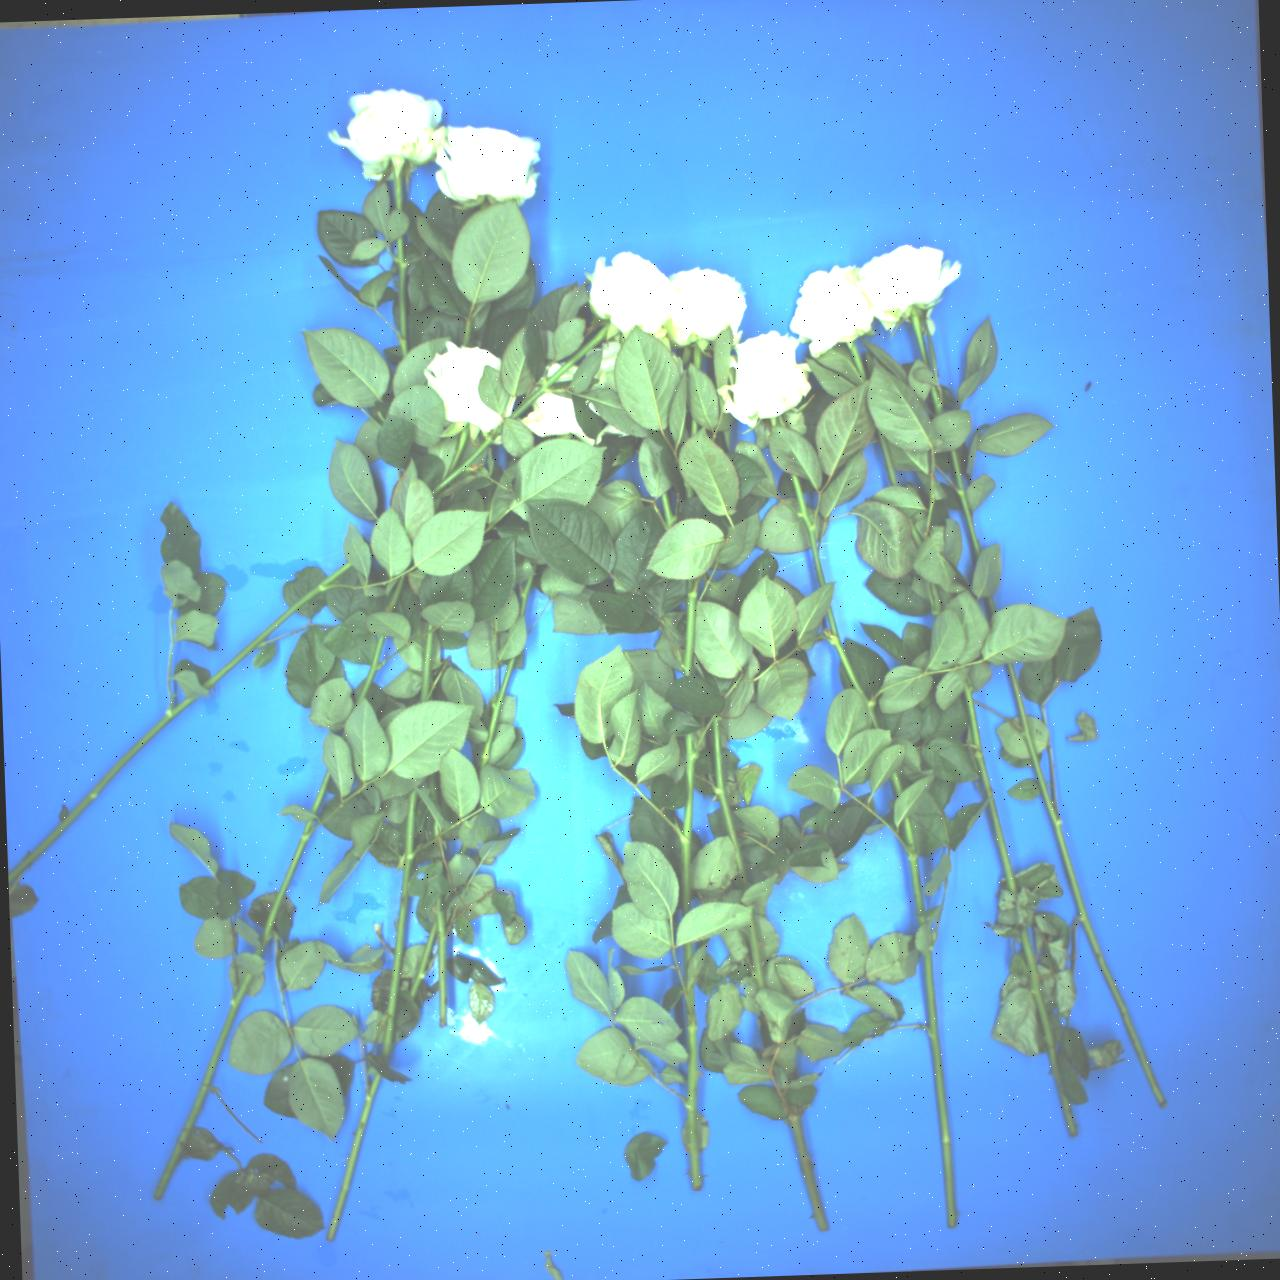Stem: (992, 662, 1167, 1114), (2, 692, 196, 883), (151, 969, 254, 1201), (200, 559, 353, 690), (1015, 927, 1077, 1136), (958, 683, 1019, 894), (379, 790, 420, 1063), (508, 324, 612, 421), (921, 948, 958, 1227), (324, 1071, 382, 1241), (253, 817, 314, 955), (702, 714, 749, 891), (818, 605, 881, 733), (429, 420, 506, 499), (785, 472, 830, 587), (788, 1114, 829, 1232), (476, 654, 517, 769), (681, 985, 702, 1190), (948, 449, 981, 558), (348, 634, 393, 706), (679, 733, 695, 917), (900, 815, 926, 926), (408, 918, 440, 999), (744, 913, 765, 988), (396, 237, 409, 358), (436, 896, 448, 1026), (682, 578, 696, 675), (877, 427, 898, 486), (421, 622, 434, 702), (309, 770, 333, 813), (447, 434, 468, 478), (515, 572, 536, 617), (911, 315, 928, 368), (847, 343, 867, 381), (386, 574, 404, 612), (659, 491, 675, 529), (682, 942, 694, 989), (904, 518, 922, 546), (886, 771, 904, 798), (930, 581, 942, 615), (928, 384, 942, 415), (393, 173, 401, 210), (461, 319, 471, 346), (681, 479, 695, 497), (692, 346, 702, 369), (986, 595, 996, 615), (441, 888, 452, 903), (690, 420, 697, 436), (434, 819, 440, 837), (435, 497, 442, 511), (458, 844, 468, 855)
flower: (319, 69, 457, 191), (850, 223, 973, 335), (572, 238, 690, 350), (708, 325, 816, 430), (776, 257, 880, 359), (434, 127, 539, 205), (424, 342, 501, 433), (668, 267, 747, 348), (520, 387, 599, 452)
